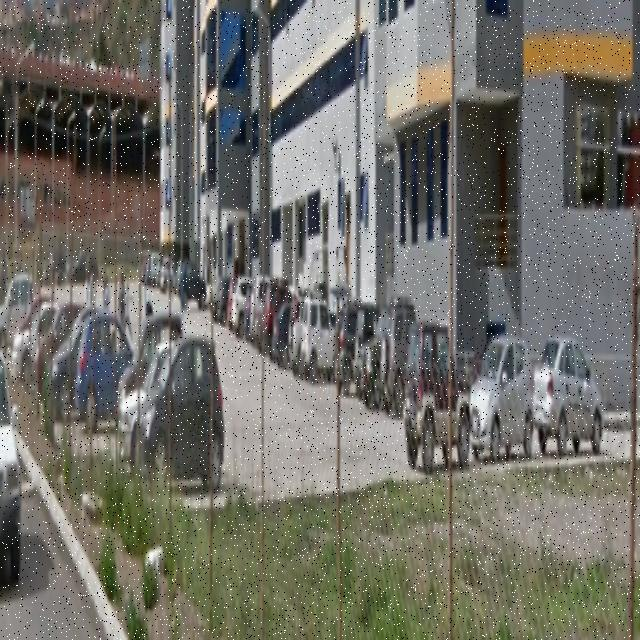cars: (464, 275, 534, 463), (142, 365, 230, 514), (406, 310, 467, 471), (538, 302, 605, 444), (78, 275, 136, 412), (77, 310, 123, 408), (303, 290, 331, 381), (381, 306, 402, 416)
